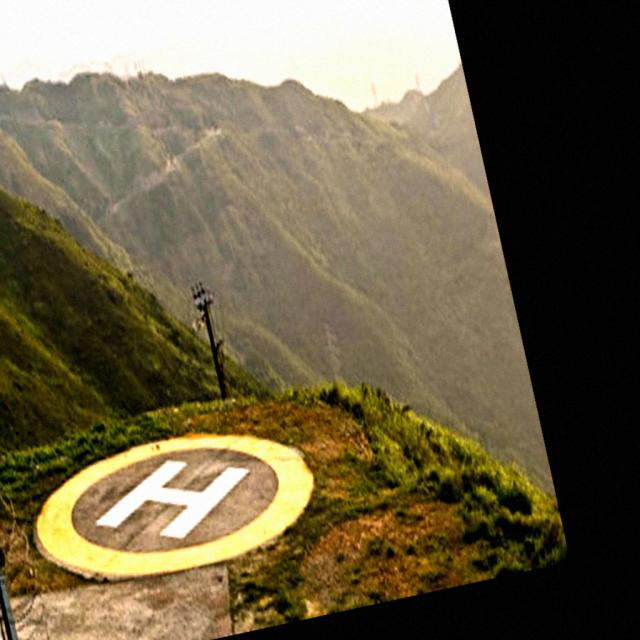helipad: (33, 425, 319, 580)
